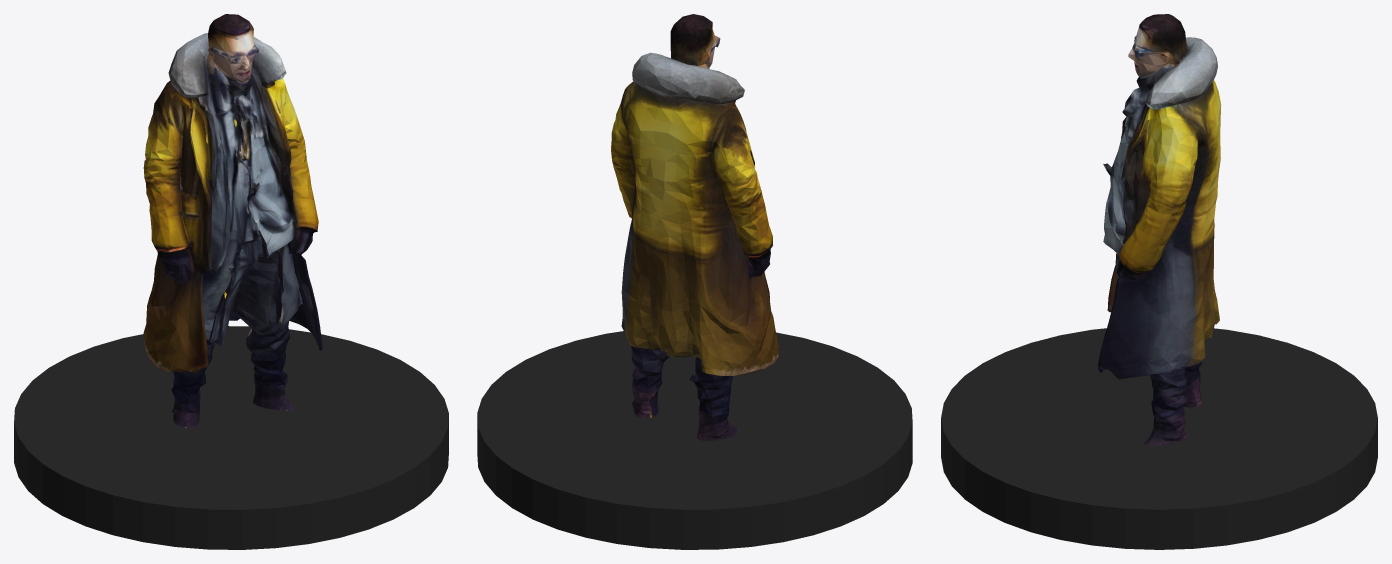
Rendered from james-meyers.glb.
The picture shows the model from 3 angles, left to right: view 1: azimuth 30°, elevation 25°; view 2: azimuth 150°, elevation 25°; view 3: azimuth 270°, elevation 25°; orthographic projection.
Visible parts, largest first — view 1: base, figure; view 2: base, figure; view 3: base, figure.
Part boxes in pixels (x1,y1,x2,y2): base: [14, 326, 448, 549]; figure: [143, 14, 322, 428]; base: [477, 331, 912, 549]; figure: [611, 14, 778, 441]; base: [941, 328, 1377, 549]; figure: [1098, 14, 1221, 446].
Size of the model in its own units: 1.18 by 1.32 by 1.18.
2 materials, 1 textured.
